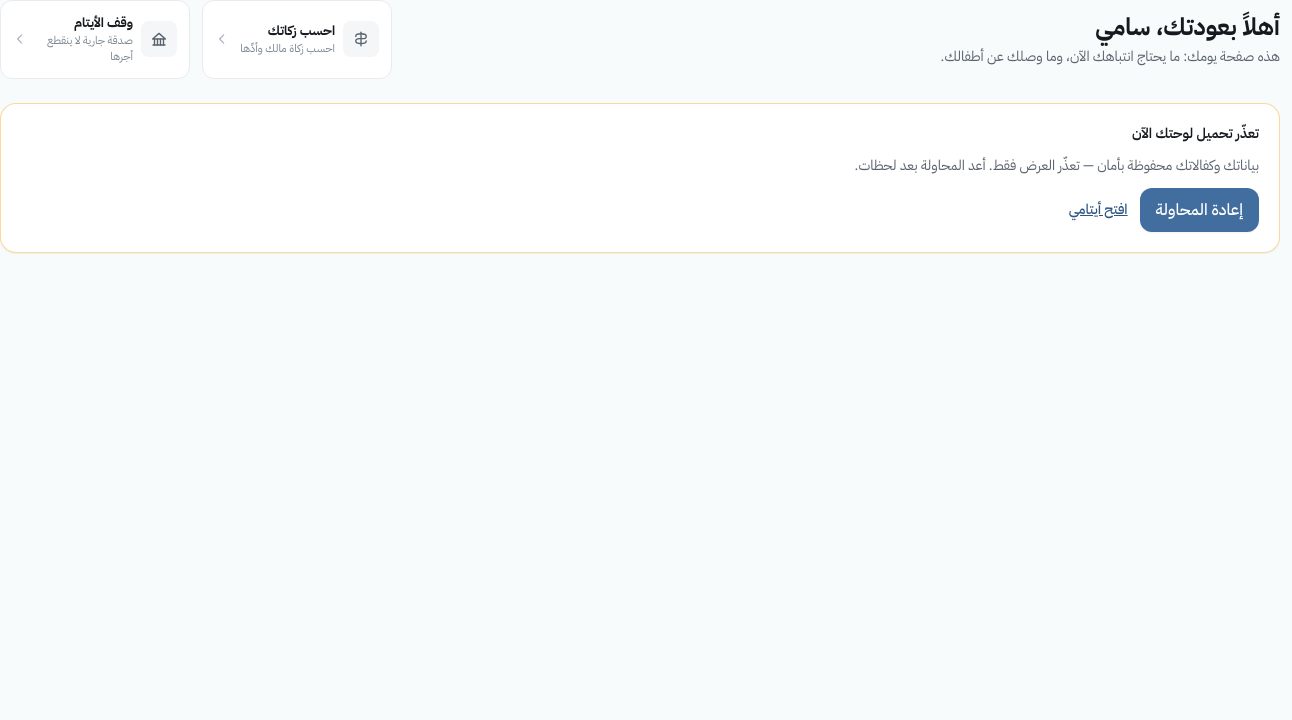
Test case: DonorDashboardPage — fetch contract › sponsorships failure blocks the page: alert + a retry that refetches
This screenshot has width=1292, height=720.
Expected: the message shows "تعذّر تحميل لوحتك الآن", 1132,122 -> 1259,144
Click the button "إعادة المحاولة" at coordinates (1199, 210), box 1140,188 -> 1259,232
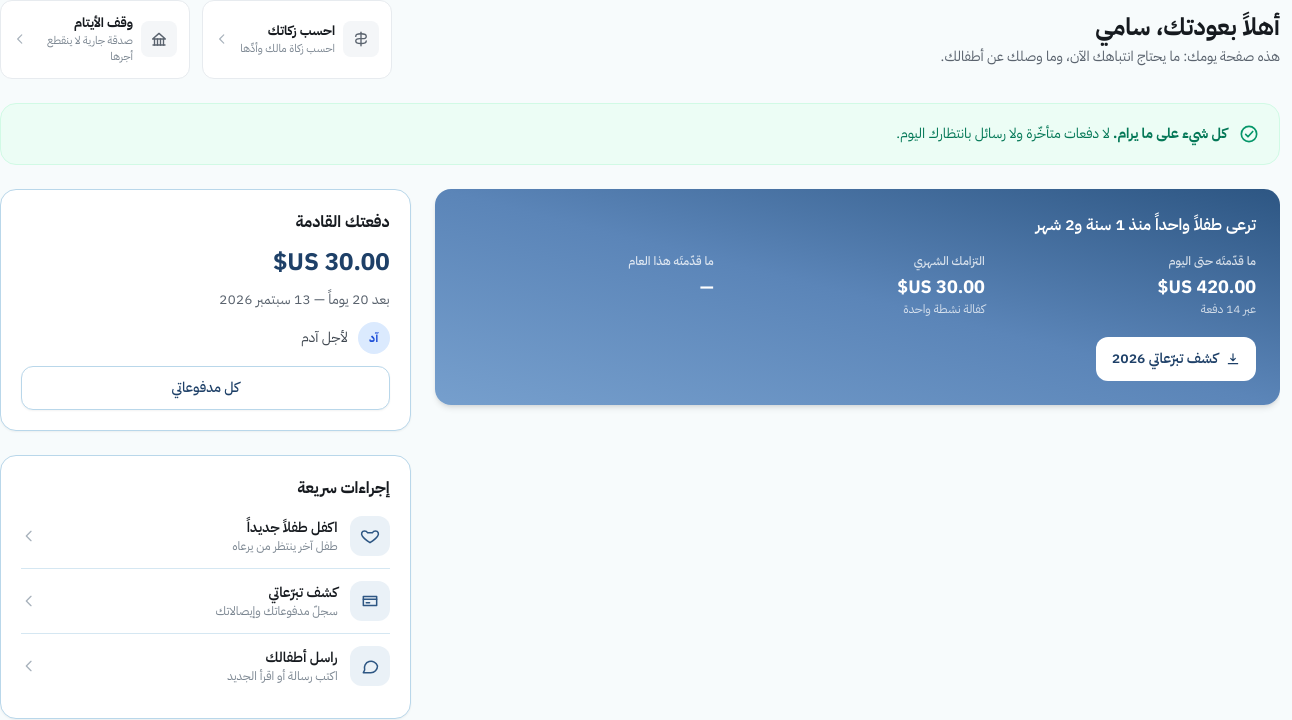
Now the heading "دفعتك القادمة" is shown, box 296,210 -> 390,234
